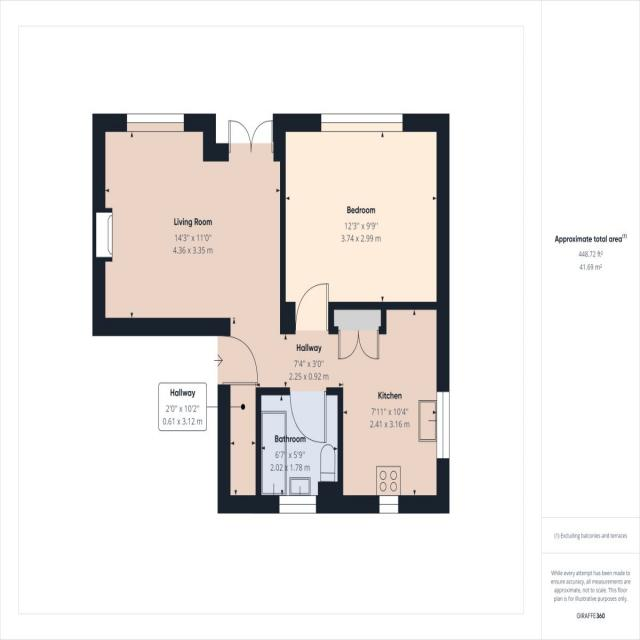DOOR: (217, 334, 260, 386), (289, 387, 327, 444), (294, 282, 330, 334)
DOUBLE DOOR: (227, 118, 274, 154)
ROOM: (92, 113, 286, 336), (273, 113, 450, 335), (328, 301, 450, 514)
WINDOW: (320, 112, 403, 133), (126, 113, 185, 133), (436, 391, 450, 460), (278, 494, 317, 514), (378, 494, 399, 514)
